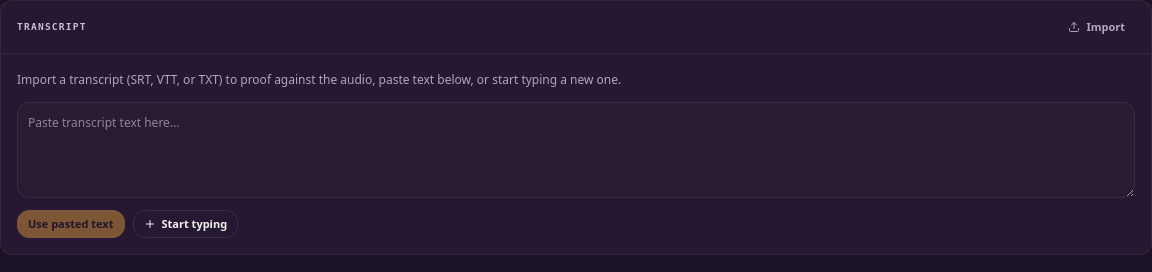
Test case: Transcript storage and timestamps › reports transcript export write failures
This screenshot has width=1152, height=272.
Click the button "Start typing". click: [185, 224]
box: [132,210,238,238]
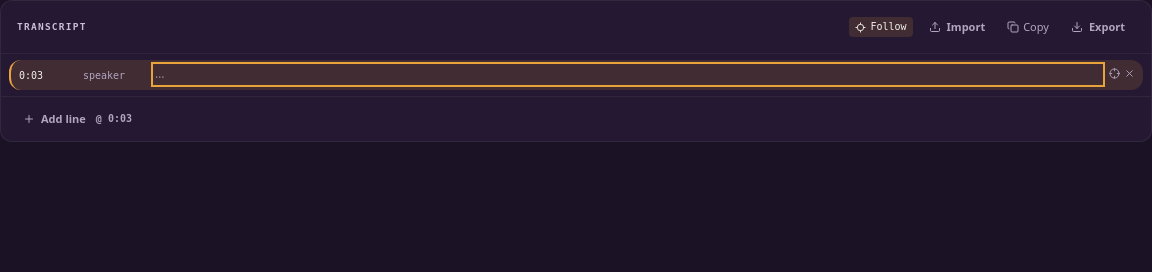
Click the button "Export". click: [1098, 27]
box: [1061,13,1135,41]
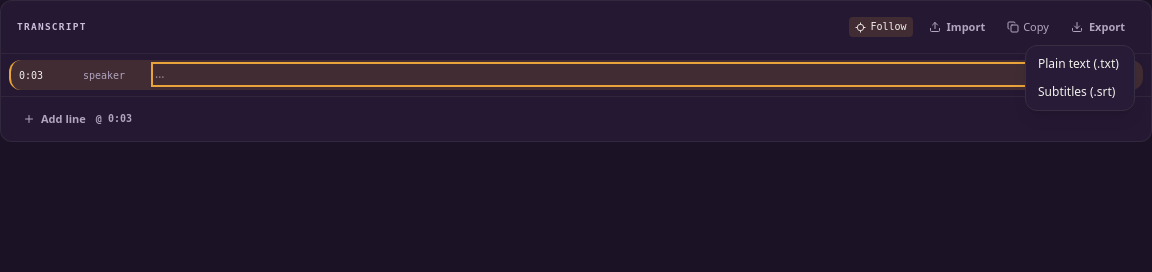
Click the button "Plain text (.txt)". click: [1080, 64]
box: [1026,50,1134,78]
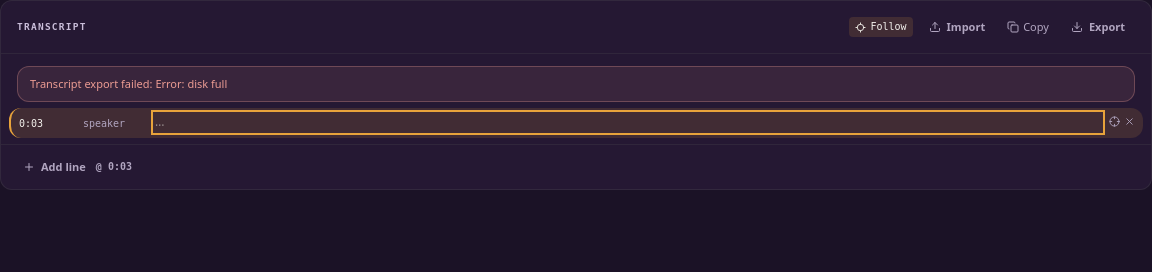
Expected: the message reads "Transcript export failed: Error: disk full", [30,76,227,91]
